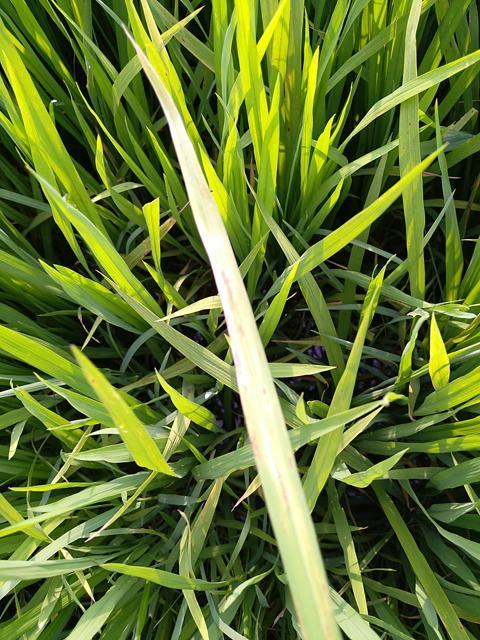Leaf Blight: (133, 39, 351, 639)
